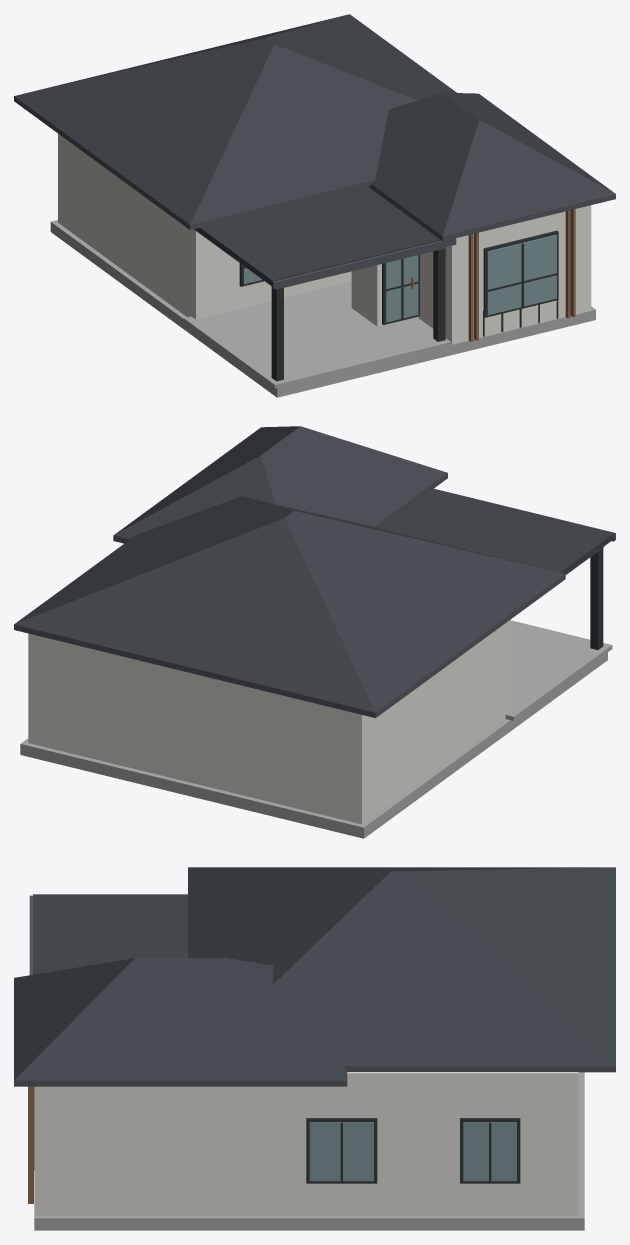
File: single-storey-prototype.glb
3 views of the same model, one above another, from view 1: azimuth 30°, elevation 25°; view 2: azimuth 150°, elevation 25°; view 3: azimuth 270°, elevation 25° (orthographic). The views are drawn at different scales.
Visible parts, largest first — view 1: roof_main_roof, walls_wall, roof_front_roof, base_slab, roof_carport_roof, finishing_glass, finishing_frame, finishing_wood, structure_frame, roof_main_fascia, roof_carport_fascia, roof_front_fascia; view 2: roof_main_roof, walls_wall, roof_front_roof, base_slab, roof_carport_roof, roof_main_fascia, structure_frame; view 3: roof_main_roof, walls_wall, roof_front_roof, roof_carport_roof, base_slab, finishing_glass, finishing_frame, roof_front_fascia, roof_main_fascia, finishing_wood.
Part boxes in pixels (bbox=[...]): roof_main_roof: bbox=[14, 14, 456, 224]; walls_wall: bbox=[58, 133, 591, 344]; roof_front_roof: bbox=[371, 92, 615, 235]; base_slab: bbox=[50, 220, 595, 397]; roof_carport_roof: bbox=[195, 187, 440, 285]; finishing_glass: bbox=[243, 234, 556, 322]; finishing_frame: bbox=[239, 230, 558, 336]; finishing_wood: bbox=[411, 209, 575, 341]; structure_frame: bbox=[271, 248, 445, 381]; roof_main_fascia: bbox=[14, 96, 374, 229]; roof_carport_fascia: bbox=[271, 238, 456, 288]; roof_front_fascia: bbox=[368, 184, 615, 241]; roof_main_roof: bbox=[14, 496, 564, 712]; walls_wall: bbox=[28, 620, 510, 824]; roof_front_roof: bbox=[113, 426, 447, 539]; base_slab: bbox=[20, 620, 612, 838]; roof_carport_roof: bbox=[380, 489, 614, 573]; roof_main_fascia: bbox=[14, 574, 565, 718]; structure_frame: bbox=[590, 548, 603, 649]; roof_main_roof: bbox=[188, 867, 615, 1066]; walls_wall: bbox=[34, 1072, 578, 1215]; roof_front_roof: bbox=[14, 958, 347, 1080]; roof_carport_roof: bbox=[33, 894, 187, 974]; base_slab: bbox=[34, 1072, 584, 1230]; finishing_glass: bbox=[309, 1122, 516, 1181]; finishing_frame: bbox=[34, 1087, 520, 1183]; roof_front_fascia: bbox=[14, 1080, 347, 1086]; roof_main_fascia: bbox=[342, 1066, 615, 1072]; finishing_wood: bbox=[28, 1086, 33, 1203].
Bounding box in the file's own units: 11.55 × 6.57 × 14.
